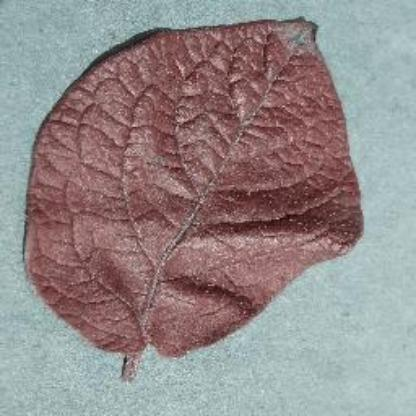Healthy-plant: (21, 15, 365, 385)
